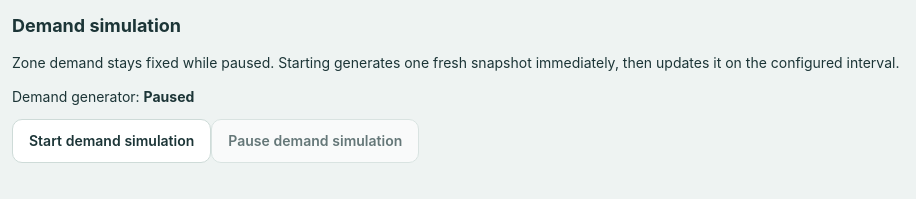
Test case: demand simulation control › starts and pauses only after confirmed responses
Expected: the text "Paused" is shown, [144, 88, 194, 105]
Expected: the button "Pause demand simulation" is disabled, [211, 119, 419, 163]
Click the button "Start demand simulation" at (112, 141), box [12, 119, 211, 163]
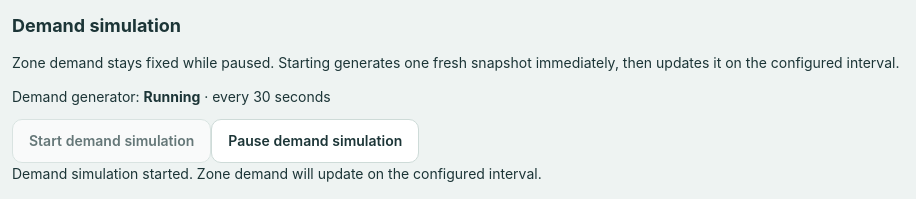
Now the text "Running" is shown, box [144, 88, 200, 105]
Now the button "Start demand simulation" is disabled, box [12, 119, 211, 163]
Now the button "Pause demand simulation" is enabled
Click the button "Pause demand simulation" at (315, 141), box [211, 119, 419, 163]
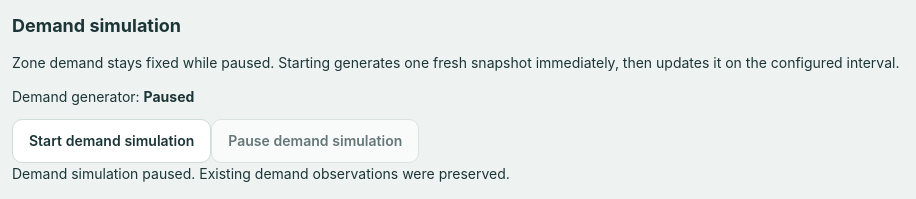
Now the text "Paused" is shown, box [144, 88, 194, 105]
